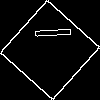I: (25, 25, 72, 41)
